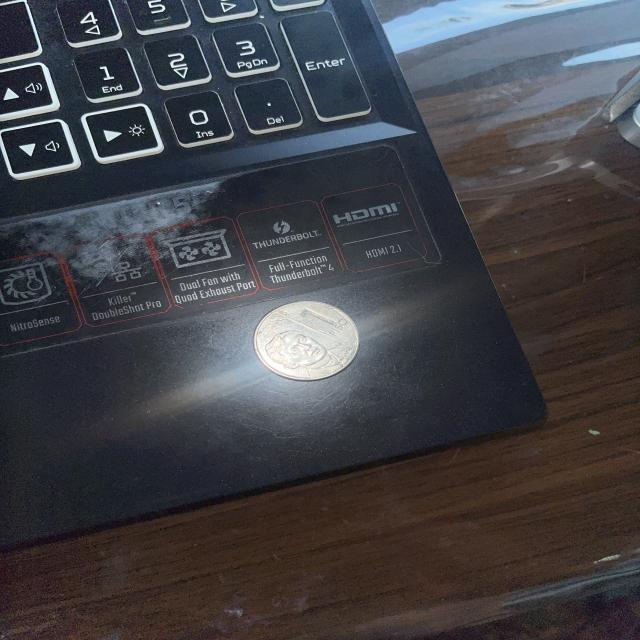1_New_Front: (264, 310, 346, 370)
